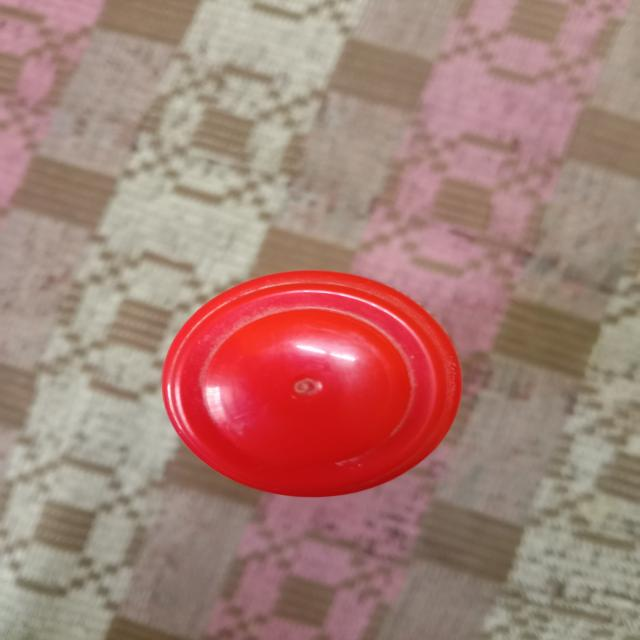deodorant: (158, 262, 500, 504)
